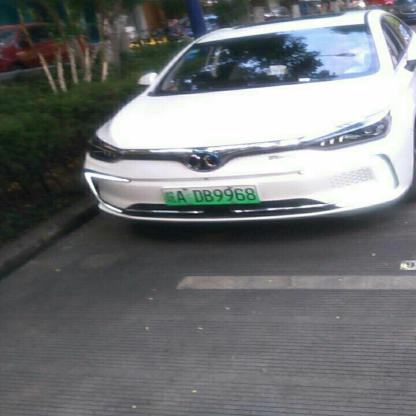lp: (163, 184, 259, 207)
